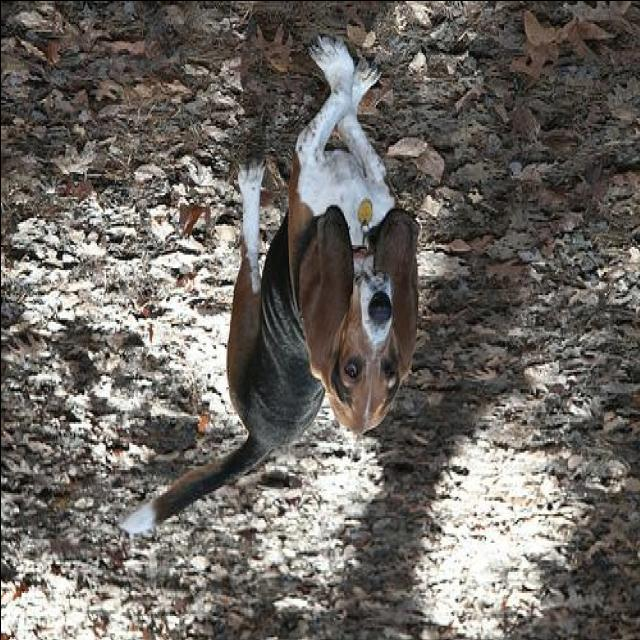basset: (118, 36, 420, 536)
